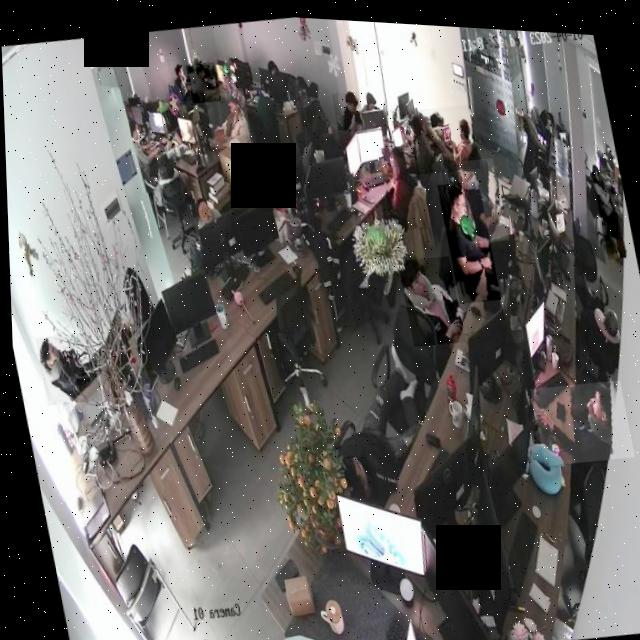person: (528, 369, 632, 463), (435, 173, 499, 300), (396, 249, 463, 345), (405, 96, 480, 173), (32, 329, 100, 408), (376, 138, 429, 230), (455, 151, 507, 240), (127, 113, 169, 193), (203, 83, 252, 149), (590, 161, 625, 253), (401, 107, 440, 180), (185, 58, 221, 103), (331, 86, 365, 130), (166, 53, 194, 101)
